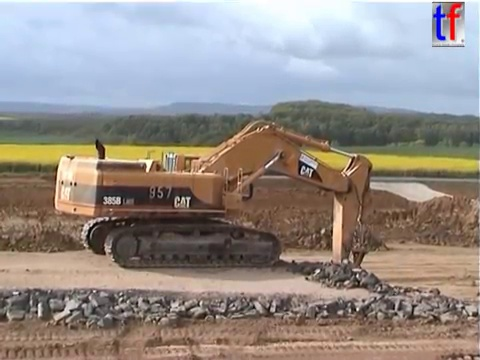excavator: (50, 116, 375, 306)
